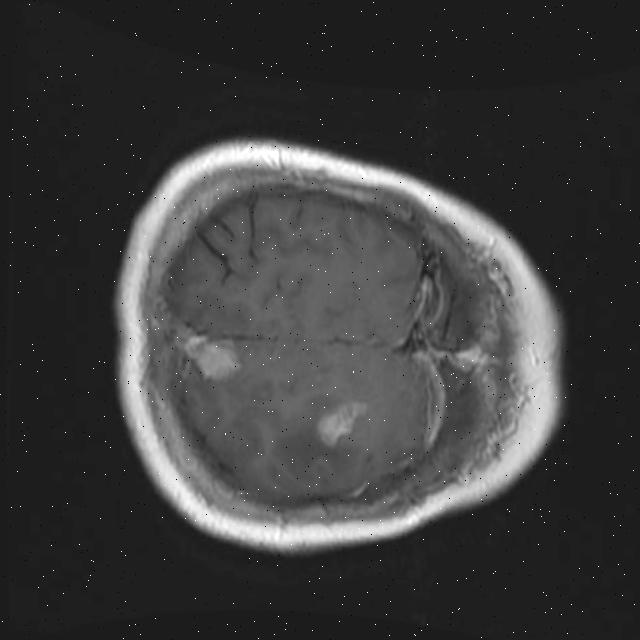Glioma: (180, 332, 243, 384), (315, 394, 370, 452)
